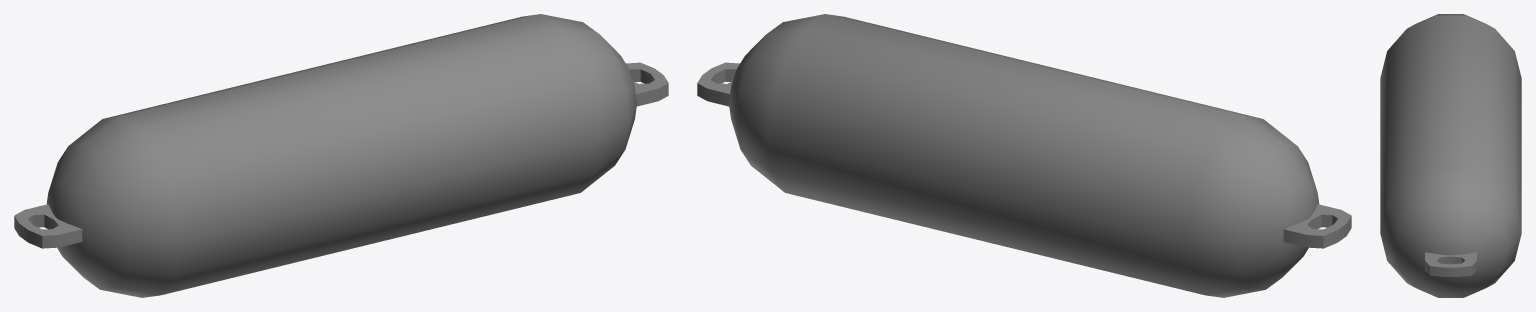
The model's file is prop_16.FBX.
3 views of the same model, side by side, from view 1: azimuth 30°, elevation 25°; view 2: azimuth 150°, elevation 25°; view 3: azimuth 270°, elevation 25° (orthographic). The views are drawn at different scales.
Visible parts, largest first — view 1: prop_16; view 2: prop_16; view 3: prop_16.
Boxes of the visible parts, left/top/right/bottom form: prop_16: left=14, top=14, right=668, bottom=297; prop_16: left=697, top=14, right=1351, bottom=297; prop_16: left=1380, top=14, right=1521, bottom=297.
Bounding box in the file's own units: 42.42 × 10.61 × 10.88.
